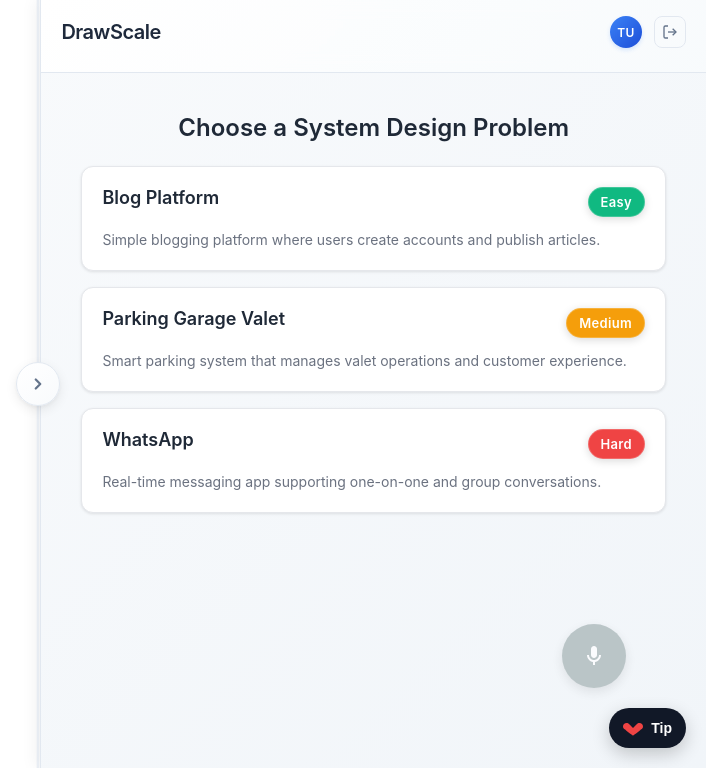
Test case: Component Interaction Tests › Problem Navigation Flow › shows back button in header when viewing a specific problem
// Click on a problem to view it
Click the heading "Blog Platform": (161, 198) [102,187,219,208]
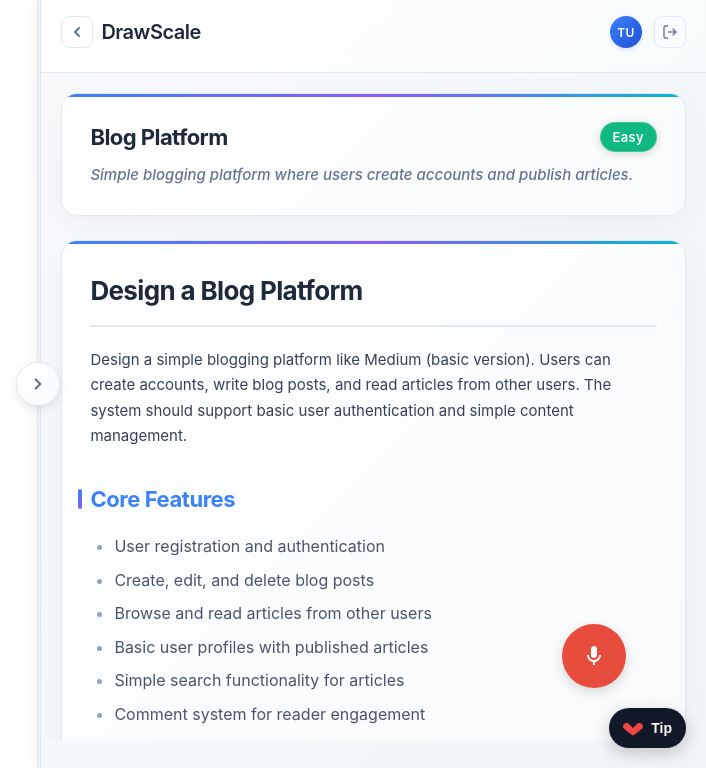
Result: the button named "Back to problems list" is shown at [61,16,93,48]
